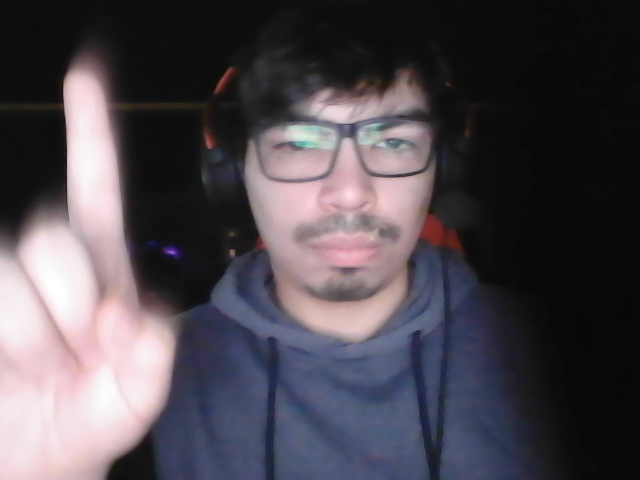one: (1, 49, 212, 480)
